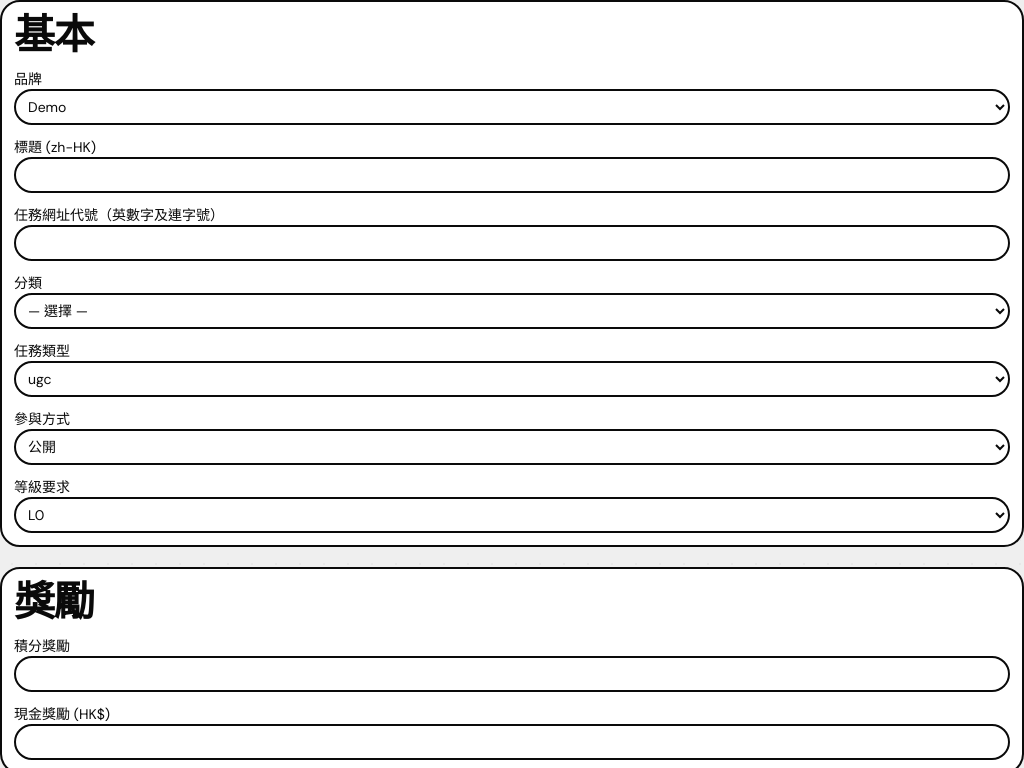
Test: MissionEditor › shows CPM fields only for performance_cpm
The width and height of the screenshot is (1024, 768).
expect the field labelled "CPM 單價" is not shown: met
Select "performance_cpm" in the dropdown labelled "任務類型" at (512, 379), box [14,361,1010,397]
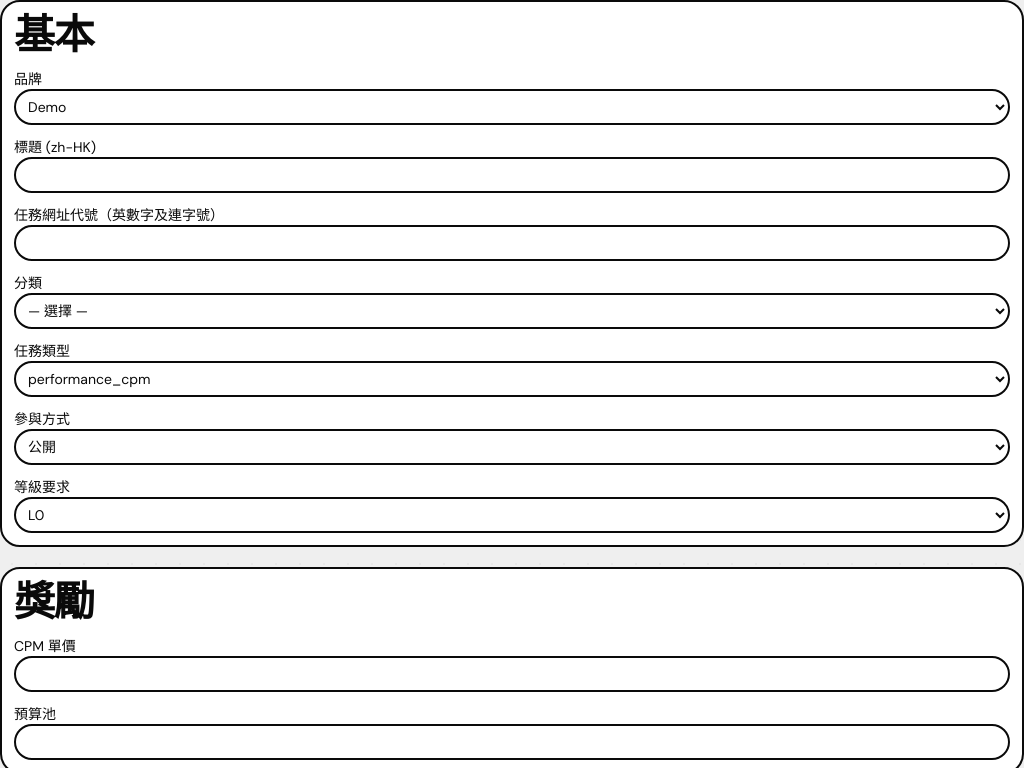
expect the number field labelled "CPM 單價" is shown: met, box [14,656,1010,692]
expect the label labelled "積分獎勵" is gone: met
